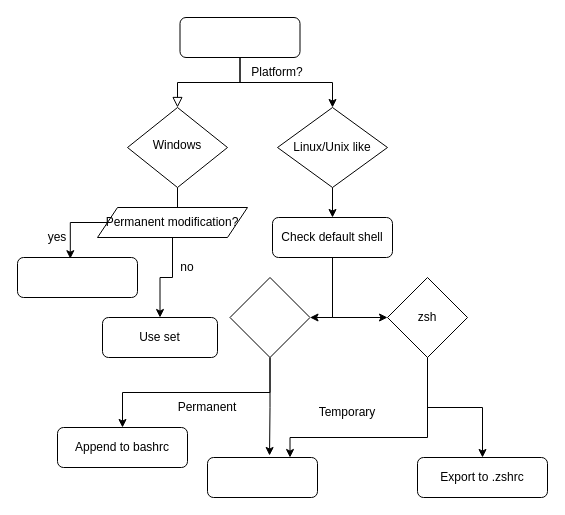
This 565x515 diagram has some shape labels left out. Here are the shapes that lost their labels. From the top down, the centre of each, then its label:
At pixel 239 37: "Start pathmodyfi".
At pixel 77 277: "use setx".
At pixel 269 317: "bash".
At pixel 262 477: "Export in local shell".
